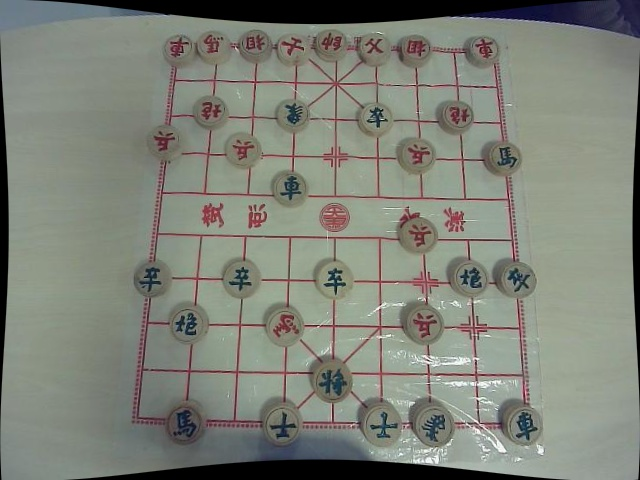Black-Cannon: (169, 305, 207, 342), (451, 261, 487, 296)
Black-Chariot: (503, 404, 542, 444), (273, 173, 308, 206)
Black-Elephant: (413, 403, 452, 446), (276, 98, 308, 132)
Black-General: (312, 359, 351, 401)
Black-Guard: (263, 401, 303, 446), (361, 404, 400, 447)
Black-Horse: (166, 402, 205, 444), (485, 142, 521, 176)
Black-Soldier: (224, 263, 260, 297), (134, 261, 170, 294), (360, 103, 394, 136), (501, 264, 536, 296), (322, 263, 349, 294)
Red-Cannon: (440, 102, 474, 135), (194, 96, 227, 129)
Red-Chariot: (468, 36, 499, 68), (163, 35, 194, 66)
Red-Elephant: (239, 30, 271, 63), (400, 35, 431, 68)
Red-General: (315, 31, 346, 63)
Red-Guard: (357, 34, 389, 67), (276, 34, 308, 66)
Red-Horse: (266, 306, 303, 345), (197, 32, 230, 65)
Red-Soldier: (406, 308, 445, 344), (400, 219, 437, 254), (399, 139, 435, 174), (226, 133, 262, 167), (147, 126, 183, 156)
